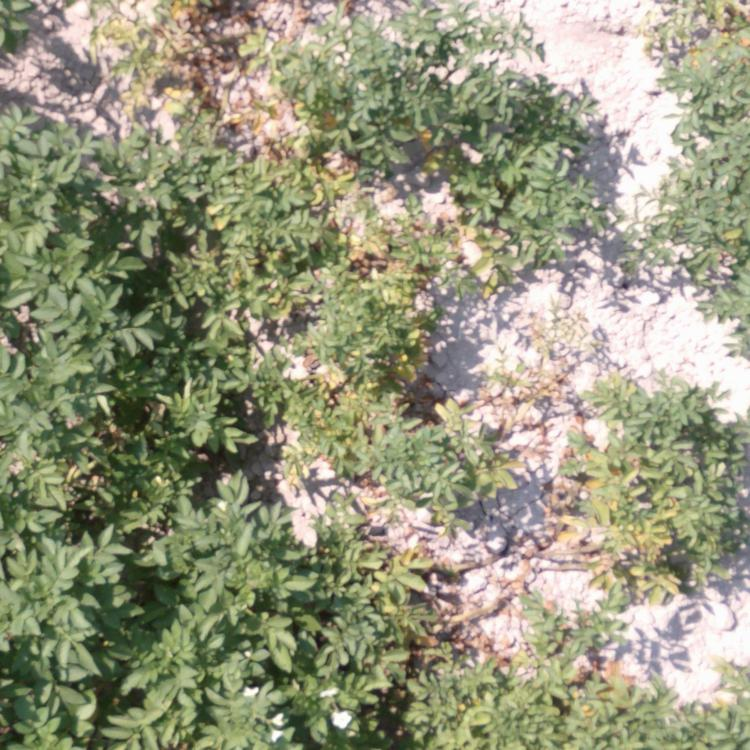healthy: (3, 450, 186, 750), (187, 465, 295, 750), (1, 349, 243, 455), (480, 100, 596, 266), (1, 242, 162, 347), (346, 8, 526, 99), (300, 608, 411, 750), (1, 107, 97, 240), (1, 1, 48, 56)
stressed: (555, 365, 750, 592), (245, 339, 417, 465), (520, 594, 646, 750), (98, 105, 243, 240), (84, 1, 247, 100), (414, 605, 520, 750), (247, 99, 347, 248), (166, 242, 314, 341), (616, 208, 750, 315), (642, 4, 750, 123), (316, 252, 462, 338), (293, 519, 437, 605), (348, 95, 481, 182), (421, 404, 505, 527), (643, 665, 750, 750), (678, 127, 750, 207), (354, 200, 458, 255), (331, 459, 414, 522), (718, 312, 747, 366)
